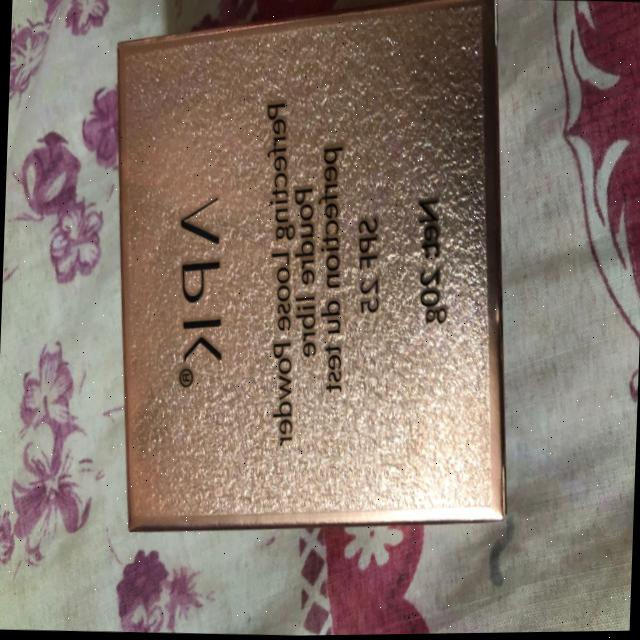powder: (82, 0, 518, 572)
